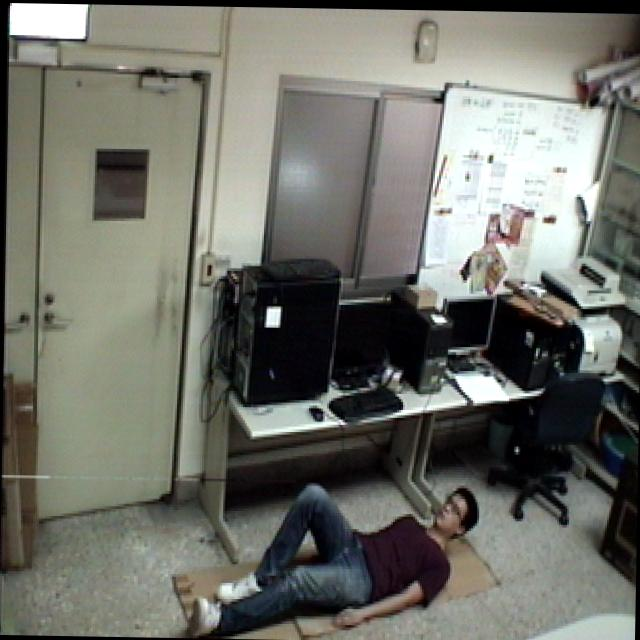lie: (181, 466, 484, 640)
